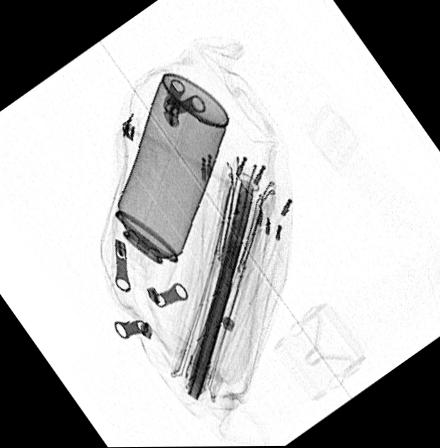Sprayer: (104, 73, 230, 294)
